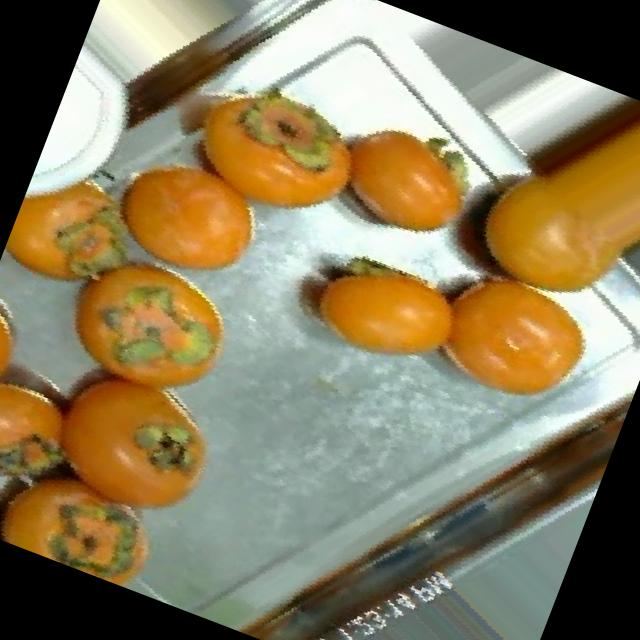Fruit: (373, 216, 640, 446), (282, 63, 527, 278), (79, 115, 301, 309), (259, 228, 487, 406), (0, 141, 166, 322)
